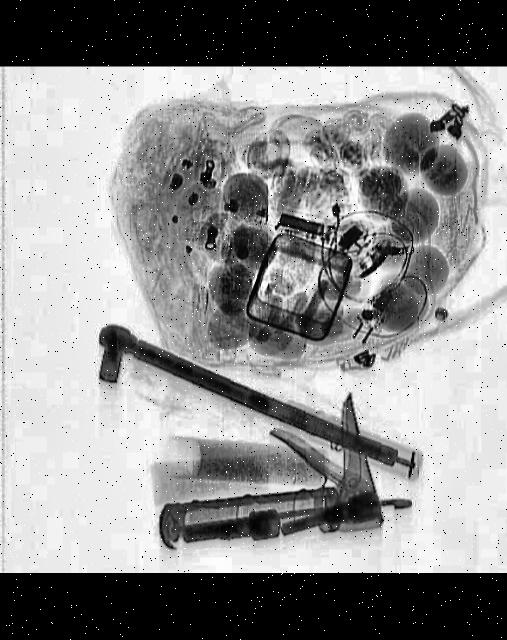Knife: (140, 390, 382, 551)
